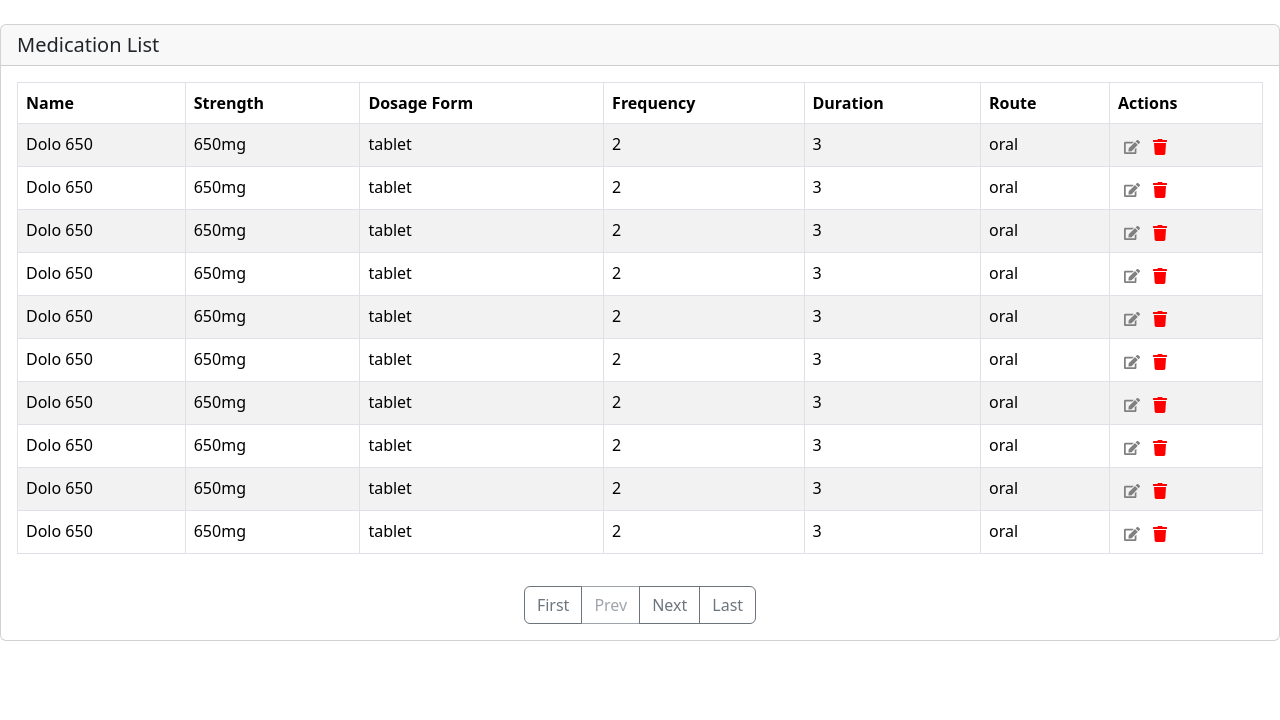
it: List Medicene › when rows > 10 next & prev buttons are clickable
Check: the button "Prev" is disabled, box left=581, top=586, right=640, bottom=624
Step 1. Click the button "Next" → (670, 605), box left=639, top=586, right=700, bottom=624
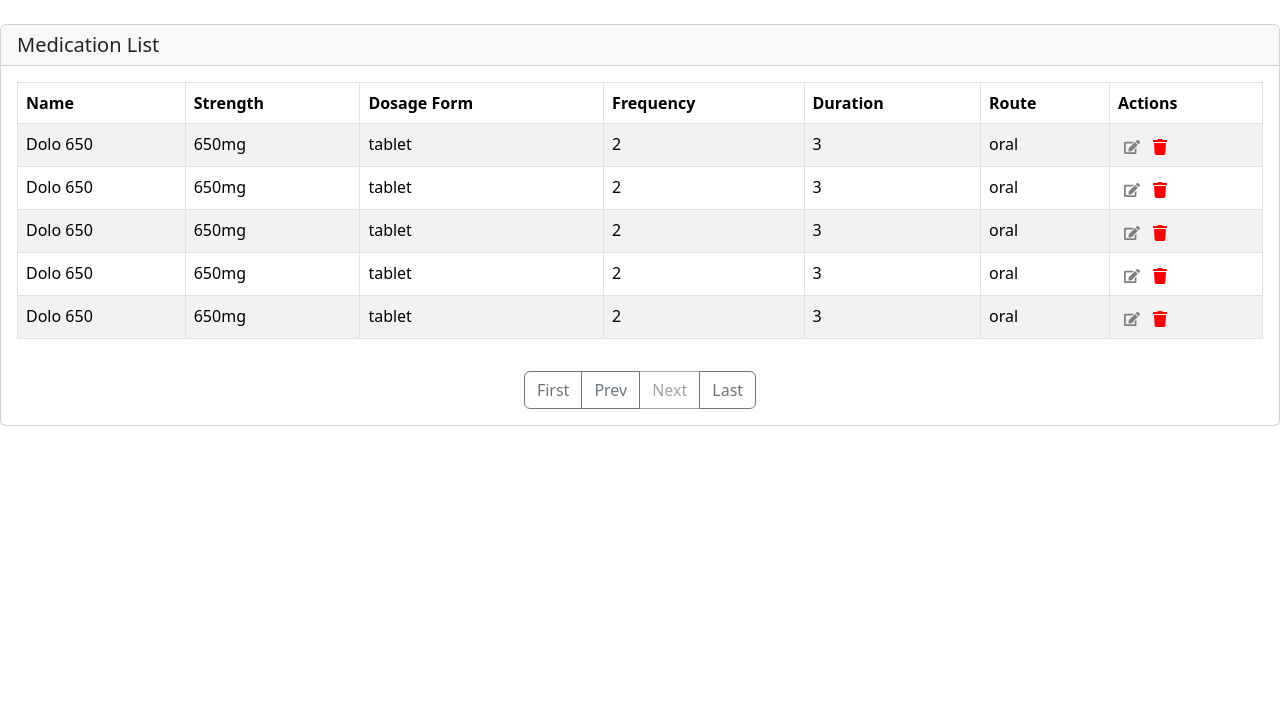
Check: the button "Prev" is enabled
Check: the button "Next" is disabled, box left=639, top=371, right=700, bottom=409
Step 2. Click the button "Prev" → (611, 390), box left=581, top=371, right=640, bottom=409
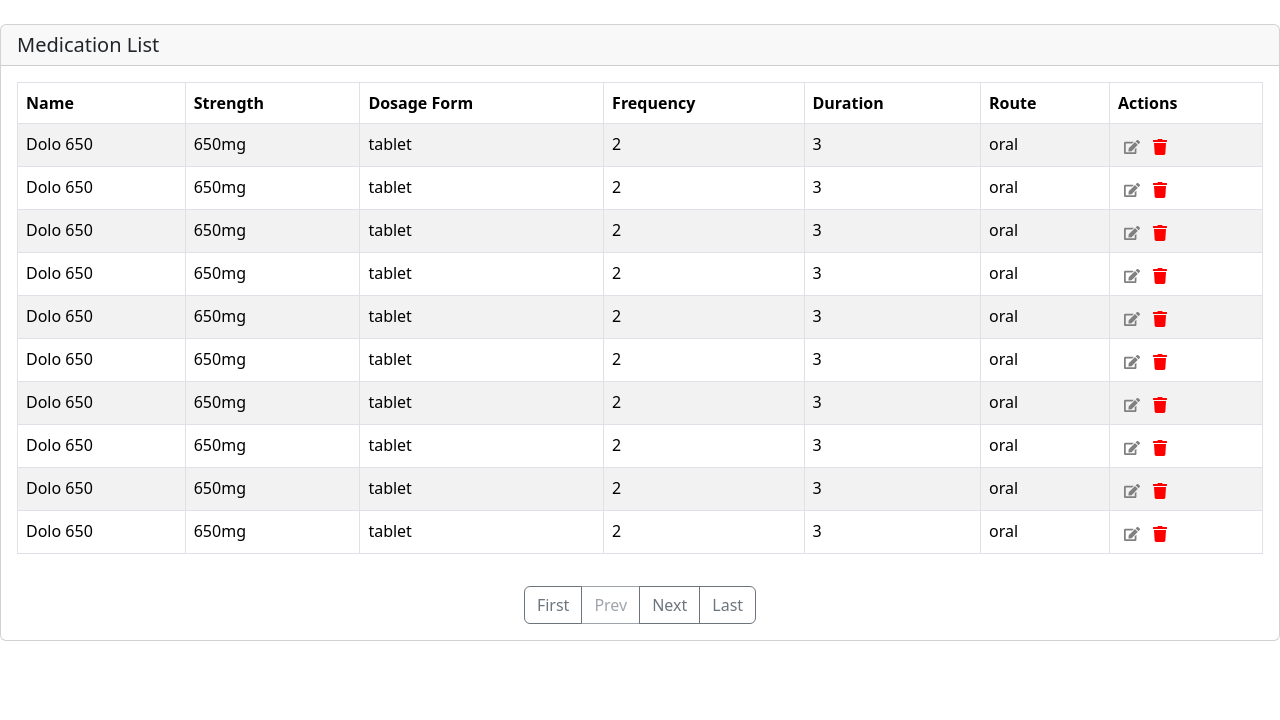
Check: the button "Next" is enabled, box left=639, top=586, right=700, bottom=624
Check: the button "Prev" is disabled, box left=581, top=586, right=640, bottom=624
